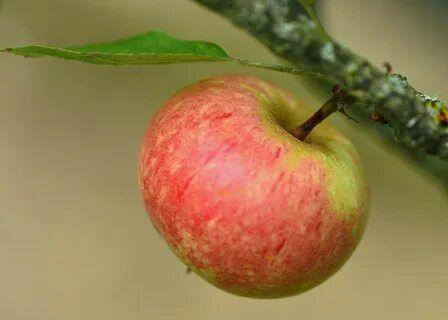Apple: (75, 22, 379, 268)
